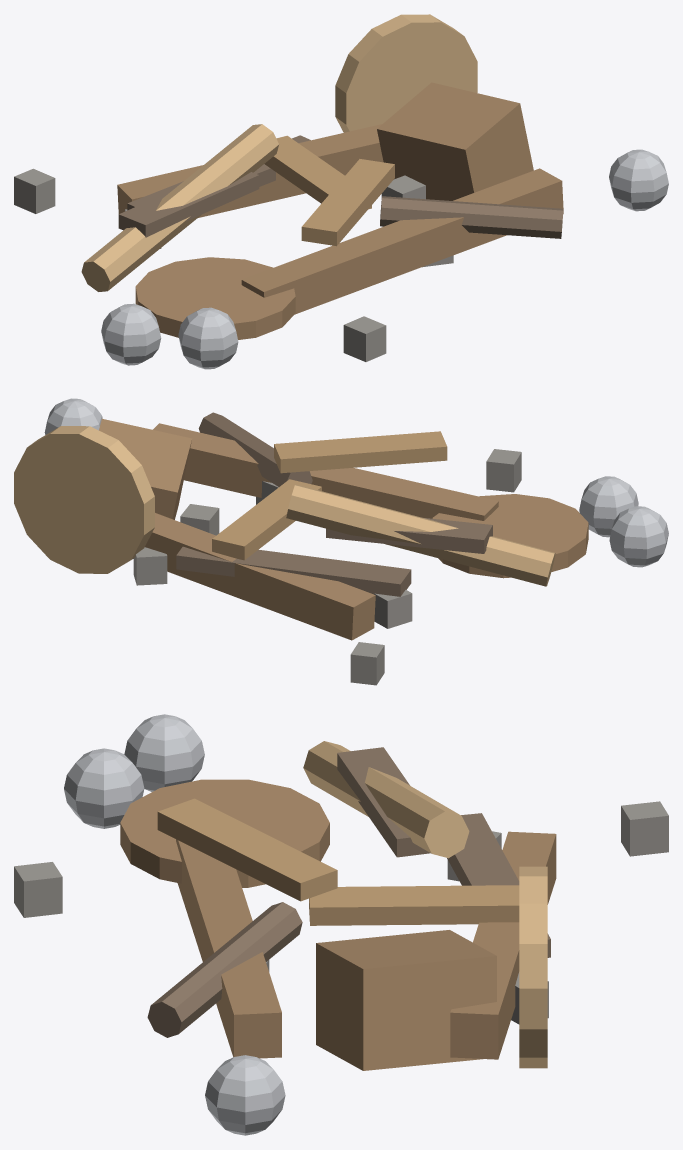
File: ws_ruin_siege_trebuchet.glb
3 views of the same model, one above another, from view 1: azimuth 30°, elevation 25°; view 2: azimuth 150°, elevation 25°; view 3: azimuth 270°, elevation 25° (orthographic). The views are drawn at different scales.
Visible parts, largest first — view 1: ws_ruin_siege_trebuchet; view 2: ws_ruin_siege_trebuchet; view 3: ws_ruin_siege_trebuchet.
Part boxes in pixels (bbox=[...]): ws_ruin_siege_trebuchet: bbox=[14, 14, 668, 369]; ws_ruin_siege_trebuchet: bbox=[14, 398, 668, 685]; ws_ruin_siege_trebuchet: bbox=[14, 714, 668, 1135].
Size of the model in its own units: 2.2 by 0.5088 by 1.62.
